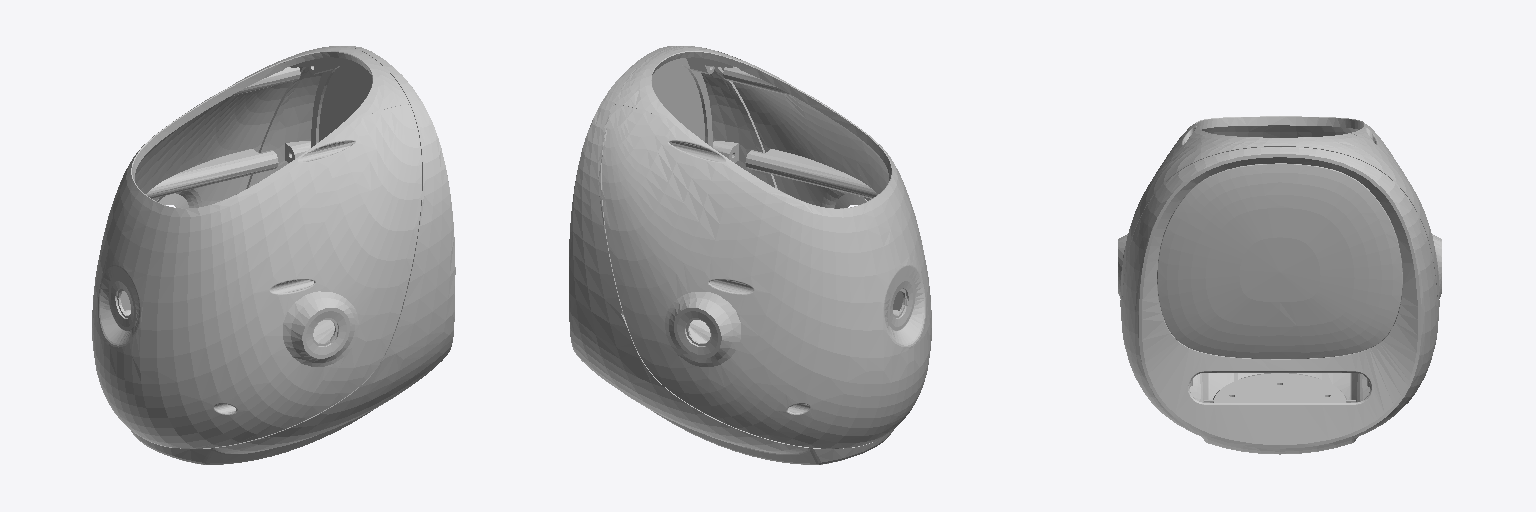
File: head.obj
The picture shows the model from 3 angles: view 1: azimuth 30°, elevation 25°; view 2: azimuth 150°, elevation 25°; view 3: azimuth 270°, elevation 25°; orthographic projection.
Parts seen in each view (by area): view 1: neck_pitch_link; view 2: neck_pitch_link; view 3: neck_pitch_link.
Part boxes in pixels (x1,y1,x2,y2): neck_pitch_link: (92, 46, 455, 464); neck_pitch_link: (569, 46, 931, 464); neck_pitch_link: (1118, 116, 1441, 454).
Bounding box in the file's own units: 0.2136 × 0.2368 × 0.204.